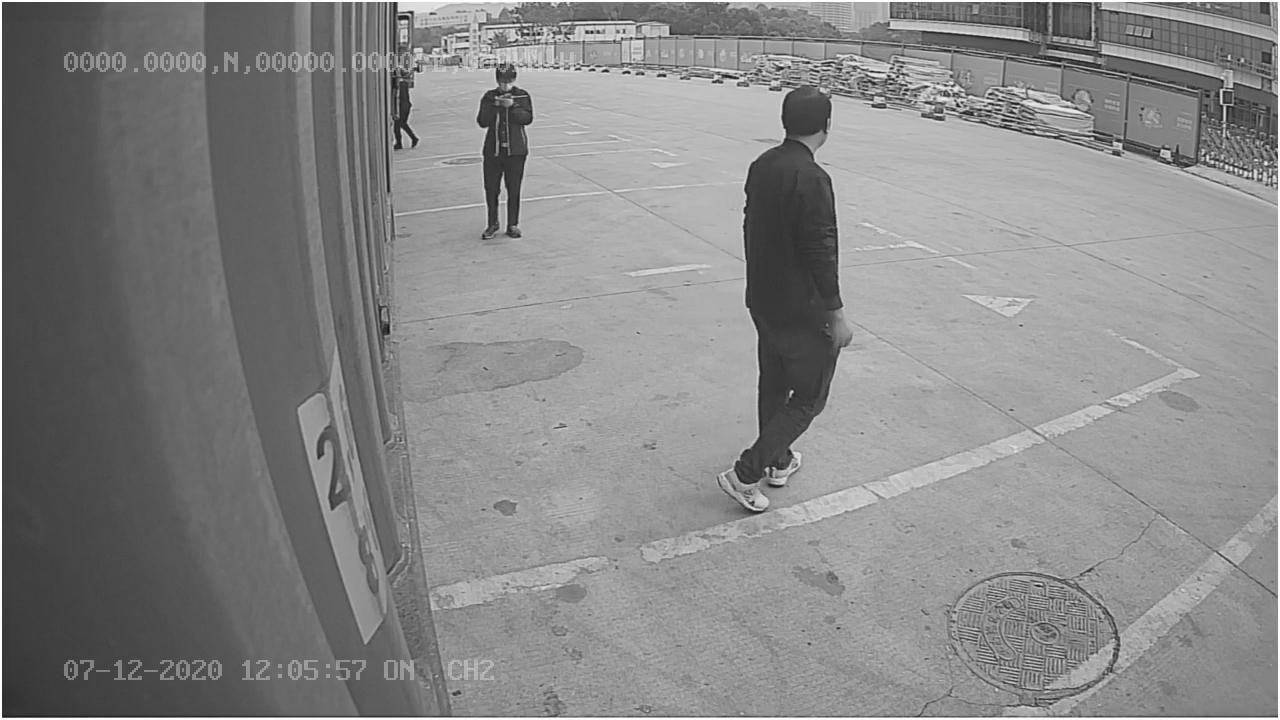person: (715, 80, 857, 512)
